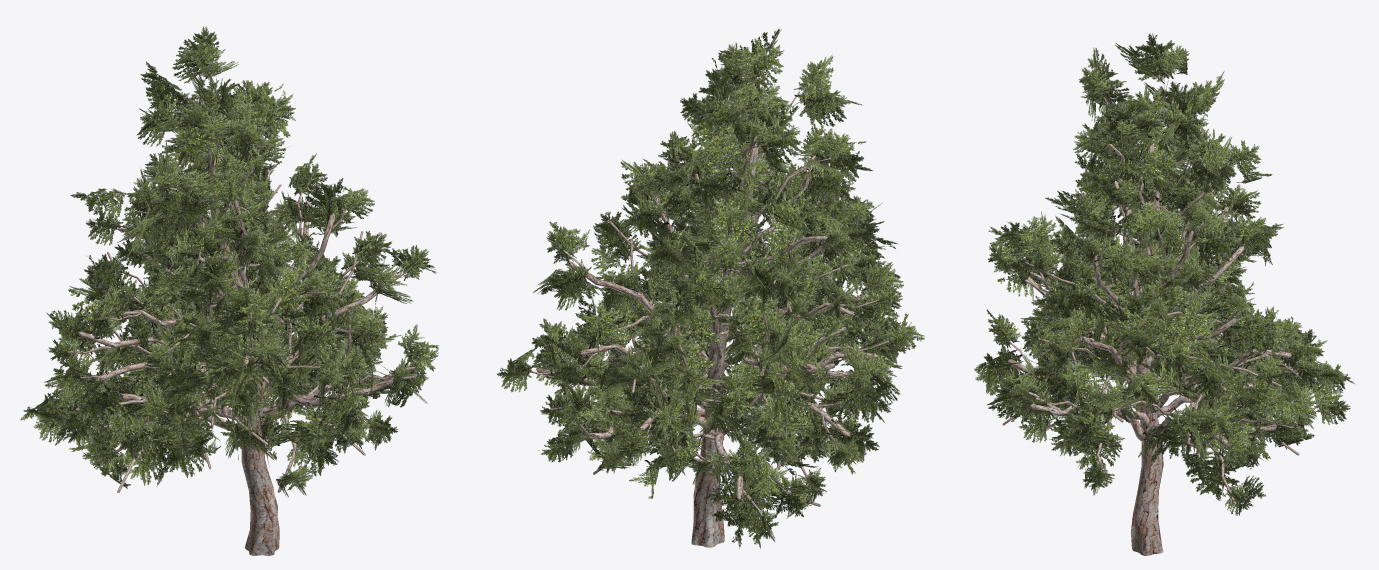
Rendered from quick_treeit_tree.glb.
The picture shows the model from 3 angles, left to right: view 1: azimuth 30°, elevation 25°; view 2: azimuth 150°, elevation 25°; view 3: azimuth 270°, elevation 25°; orthographic projection. The views are drawn at different scales.
Parts seen in each view (by area): view 1: aa; view 2: aa; view 3: aa.
Boxes of the visible parts, <box> form: aa: <box>20,26,439,555</box>; aa: <box>497,29,924,548</box>; aa: <box>974,33,1354,555</box>.
Size of the model in its own units: 83.66 by 112 by 81.22.
2 materials, 2 textured.
